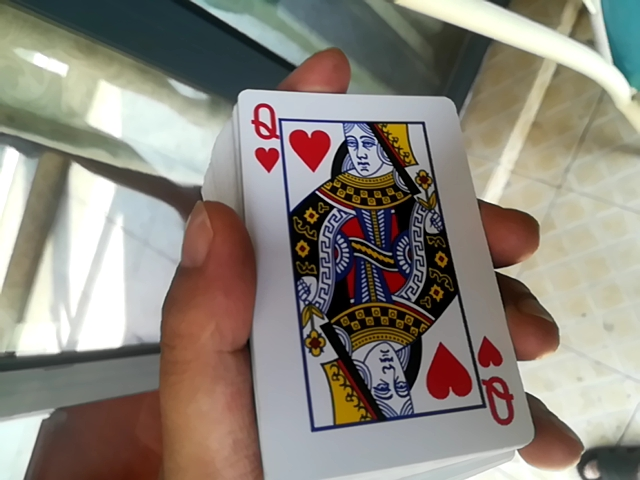hx q: (227, 78, 548, 471)
